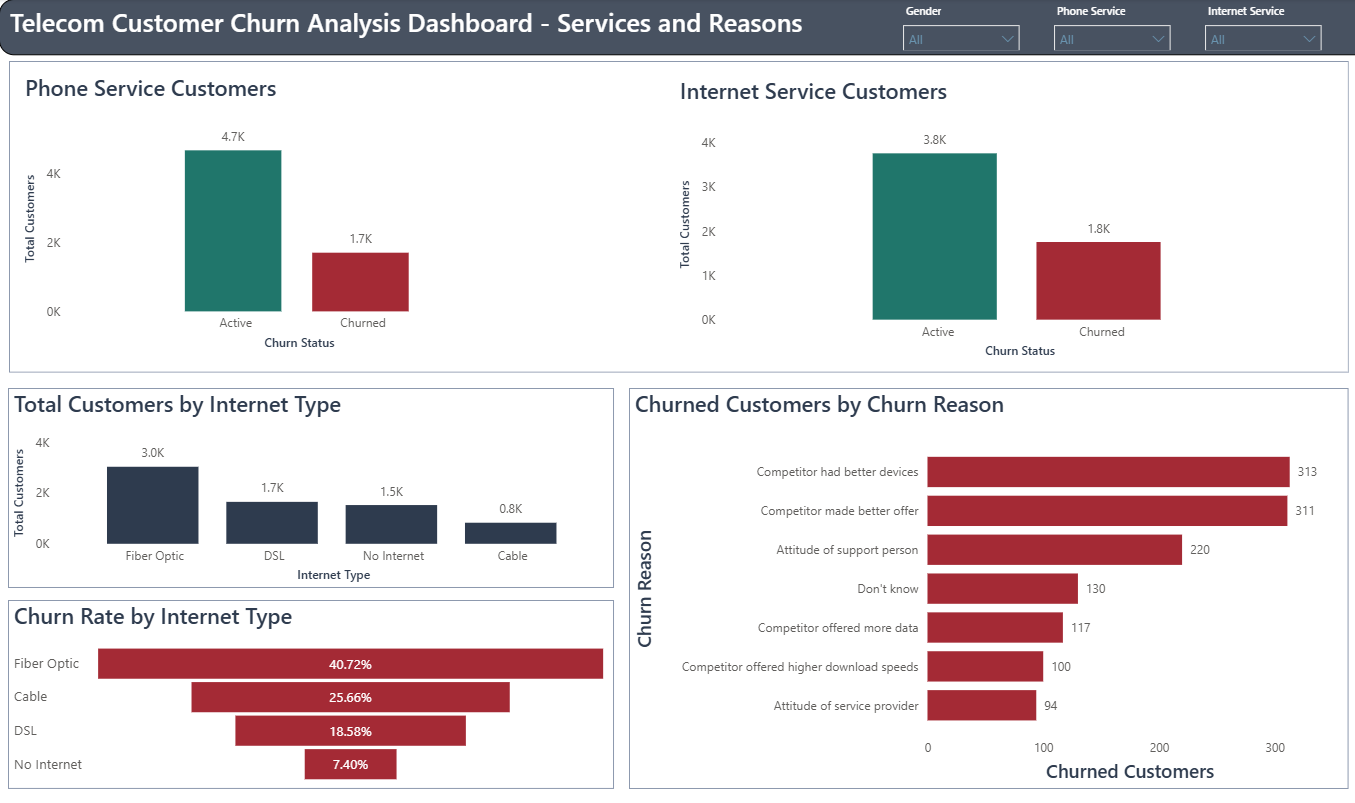

Layout of this report page (visuals, bound fields, positions):
{"tool":"powerbi","page":{"name":"Page 3","canvas":[1350,800],"ordinal":2},"visuals":[{"type":"textbox","title":"Telecom Customer Churn Analysis Dashboard - Services and Reasons","box":[0,0,1489.6,56],"z":0},{"type":"shape","box":[9.5,61.3,1333.1,309.8],"z":1000},{"type":"clusteredColumnChart","title":"Phone Service Customers","fields":{"Category":["Churn.Churn Status"],"Y":["Churn.Total Customers"]},"box":[20.5,73.3,511.1,280.2],"z":2000},{"type":"clusteredColumnChart","title":"Internet Service Customers","fields":{"Category":["Churn.Churn Status"],"Y":["Churn.Total Customers"]},"box":[672.4,76.1,641.7,285.4],"z":3000},{"type":"funnel","fields":{"Category":["Churn.Internet Type"],"Y":["Churn.Churn Rate"]},"box":[9.2,598.1,603.2,187.7],"z":5000},{"type":"clusteredBarChart","fields":{"Category":["Churn.Churn Reason"],"Y":["Churn.Churned Customers"]},"box":[626.8,386.7,716,399.1],"z":6000},{"type":"slicer","fields":{"Values":["Churn.Gender"]},"box":[890.2,3.2,135.3,47.6],"z":7000},{"type":"slicer","fields":{"Values":["Churn.Phone Service"]},"box":[1041,3.2,135,47.6],"z":8000},{"type":"slicer","fields":{"Values":["Churn.Internet Service"]},"box":[1191.5,3.2,135,47.6],"z":9000},{"type":"clusteredColumnChart","fields":{"Category":["Churn.Internet Type"],"Y":["Churn.Total Customers"]},"box":[9.2,386.7,603.2,199],"z":10000}]}

Visuals, with their boxes in screenshot pixels (x1, y1, x2, y2), scaled from the page's 1350x800 canvas onto the 1355x803 screenshot:
"Telecom Customer Churn Analysis Dashboard - Services and Reasons" textbox: left=0, top=0, right=1354, bottom=56
shape: left=10, top=62, right=1348, bottom=372
"Phone Service Customers" clusteredColumnChart: left=21, top=74, right=534, bottom=355
"Internet Service Customers" clusteredColumnChart: left=675, top=76, right=1319, bottom=363
funnel - Churn.Internet Type x Churn.Churn Rate: left=9, top=600, right=615, bottom=789
clusteredBarChart - Churn.Churn Reason x Churn.Churned Customers: left=629, top=388, right=1348, bottom=789
slicer - Churn.Gender: left=893, top=3, right=1029, bottom=51
slicer - Churn.Phone Service: left=1045, top=3, right=1180, bottom=51
slicer - Churn.Internet Service: left=1196, top=3, right=1331, bottom=51
clusteredColumnChart - Churn.Internet Type x Churn.Total Customers: left=9, top=388, right=615, bottom=588
